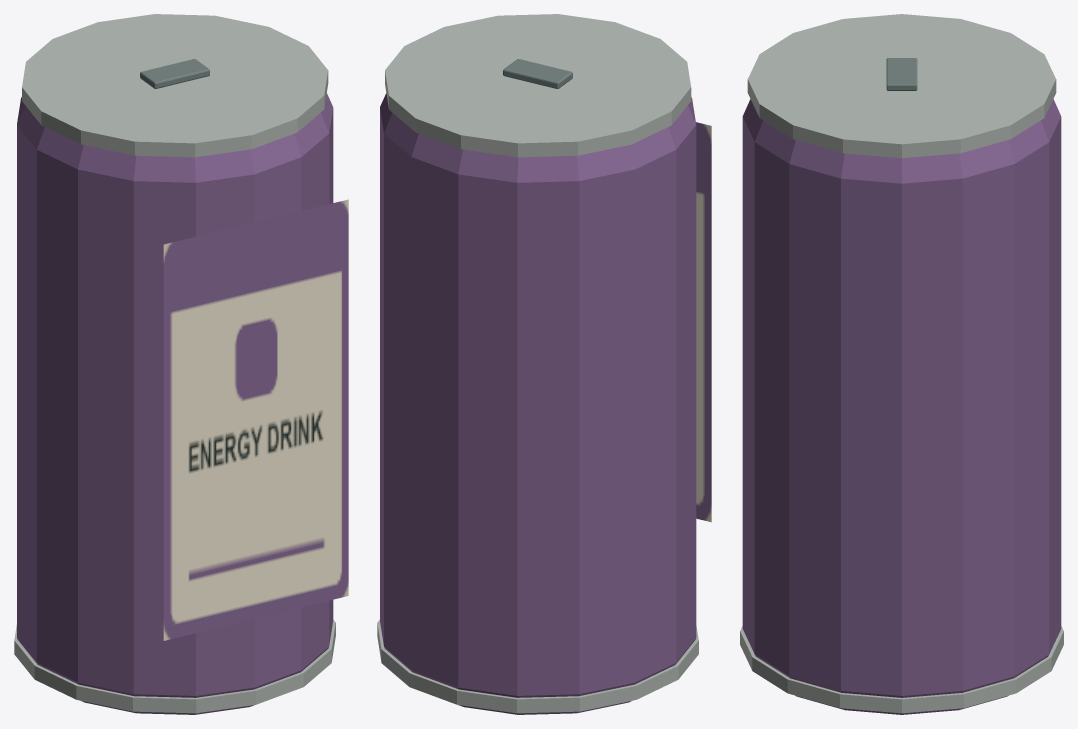
The model's file is energy_drink.fbx.
3 renders of one model, left to right at view 1: azimuth 30°, elevation 25°; view 2: azimuth 150°, elevation 25°; view 3: azimuth 270°, elevation 25°, orthographic.
Visible parts, largest first — view 1: energy_drink; view 2: energy_drink; view 3: energy_drink.
Part boxes in pixels (x1,y1,x2,y2): energy_drink: (14,14,348,714); energy_drink: (377,14,711,714); energy_drink: (740,14,1063,714).
Size of the model in its own units: 12.6 by 24.95 by 12.6.
